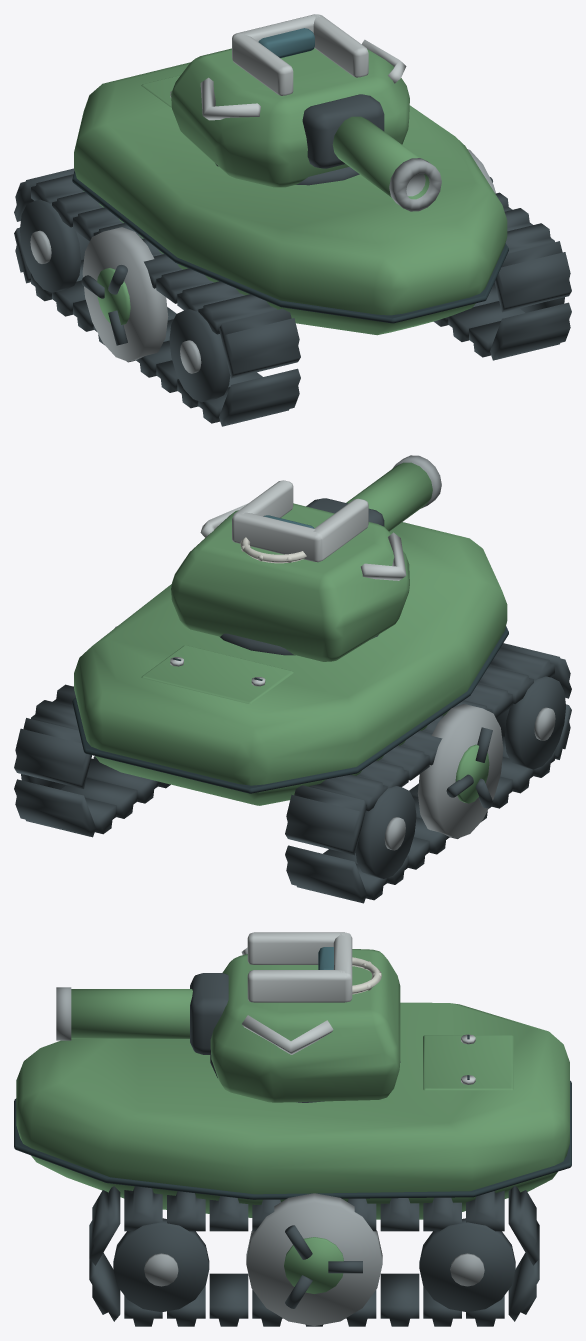
File: TOY_BANKER.lo.glb
The picture shows the model from 3 angles, top to bottom: view 1: azimuth 30°, elevation 25°; view 2: azimuth 150°, elevation 25°; view 3: azimuth 270°, elevation 25°; orthographic projection. The views are drawn at different scales.
Visible parts, largest first — view 1: Body, TurretYaw, WheelLeft, BarrelRecoil; view 2: Body, TurretYaw, WheelLeft, BarrelRecoil; view 3: Body, TurretYaw, WheelRight, BarrelRecoil.
Part boxes in pixels (x1=…): Body: x1=14, y1=62, x2=571, y2=426; TurretYaw: x1=171, y1=14, x2=409, y2=187; WheelLeft: x1=81, y1=227, x2=168, y2=361; BarrelRecoil: x1=332, y1=116, x2=441, y2=211; Body: x1=14, y1=522, x2=571, y2=903; TurretYaw: x1=171, y1=480, x2=409, y2=661; WheelLeft: x1=417, y1=704, x2=503, y2=838; BarrelRecoil: x1=346, y1=455, x2=441, y2=531; Body: x1=14, y1=1002, x2=571, y2=1326; TurretYaw: x1=190, y1=932, x2=400, y2=1102; WheelRight: x1=246, y1=1193, x2=382, y2=1325; BarrelRecoil: x1=56, y1=987, x2=192, y2=1040.
Size of the model in its own units: 0.7288 by 0.525 by 0.9173.
